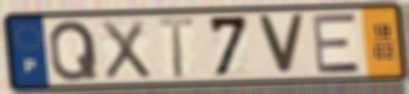7: (208, 14, 251, 79)
E: (310, 11, 365, 76)
Q: (47, 18, 101, 84)
T: (156, 15, 197, 81)
V: (254, 13, 308, 78)
X: (98, 18, 155, 82)
